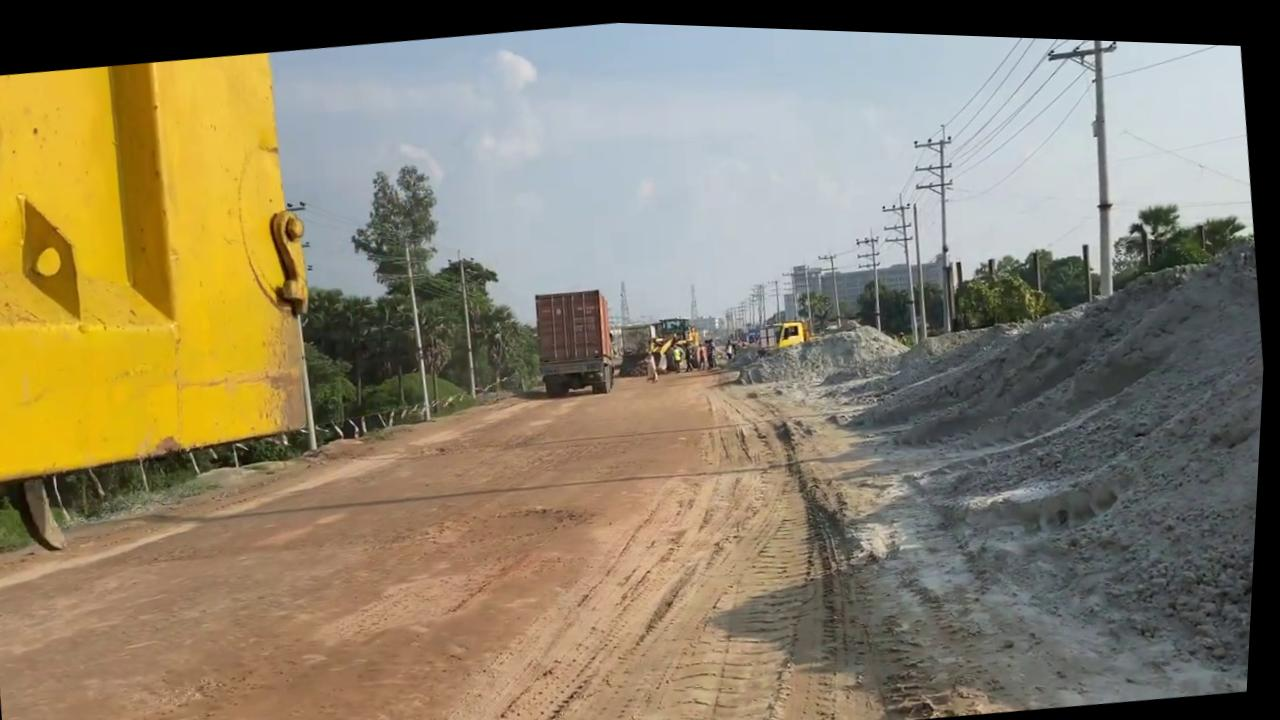Garbage: (845, 241, 1271, 671)
Pole: (1063, 31, 1141, 288), (398, 236, 445, 418), (453, 245, 488, 396)
Tree: (0, 39, 341, 496), (531, 279, 624, 397), (614, 307, 708, 375), (613, 315, 665, 374), (774, 310, 818, 344)
